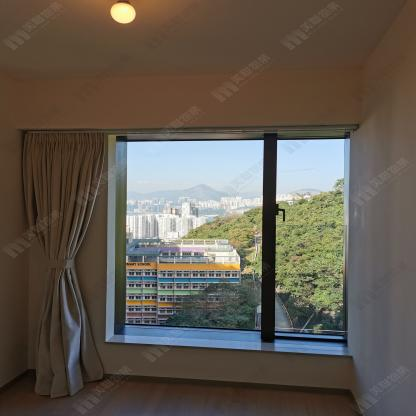Windowsill: (105, 130, 358, 360)
